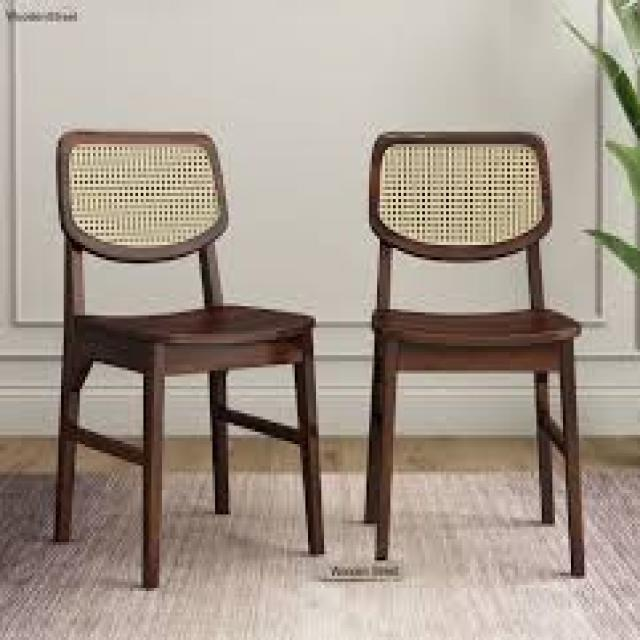chair: (54, 128, 328, 592), (364, 130, 587, 584)
